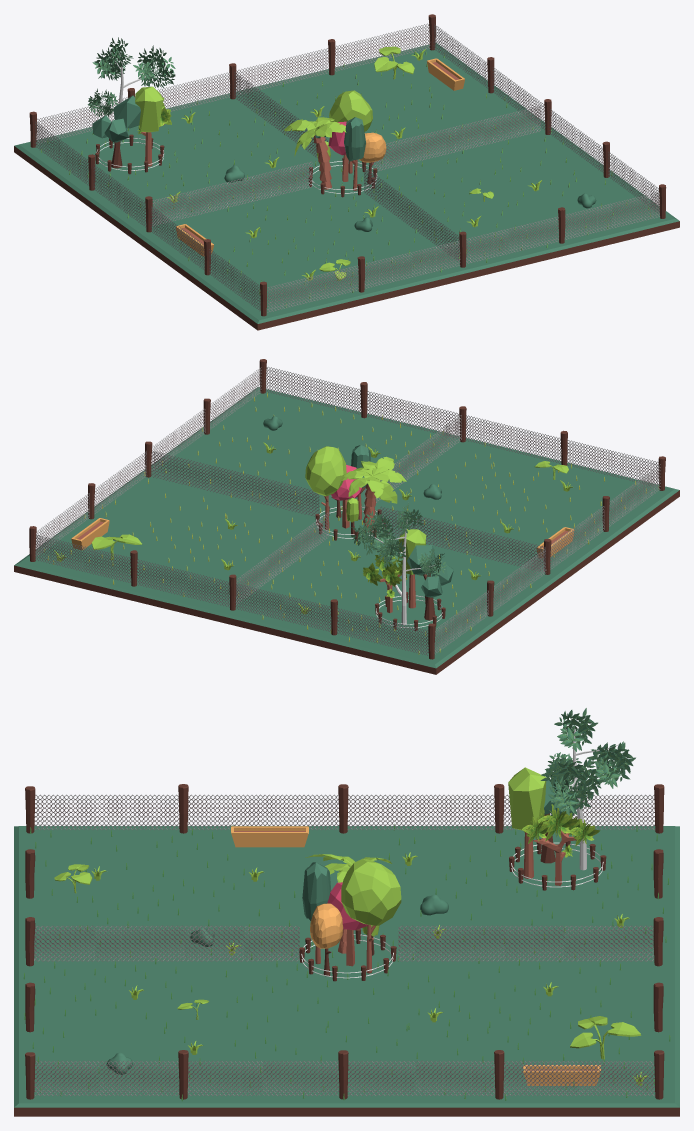
Rendered from cow_plot_collection.fbx.
3 renders of one model, top to bottom at view 1: azimuth 30°, elevation 25°; view 2: azimuth 150°, elevation 25°; view 3: azimuth 270°, elevation 25°, orthographic. The views are drawn at different scales.
Parts seen in each view (by area): view 1: Ground.001, Rotating_Fences.001, Fence, Cylinder.022, Cylinder.015, Cylinder.027, Eucalyptus_Trunk.001, Grass.001, Coconut_tree.001, Plane, Cube, Sphere.018 (+5 smaller); view 2: Ground.001, Rotating_Fences.001, Cylinder.022, Fence, Cylinder.015, Cylinder.027, Eucalyptus_Trunk.001, Grass.001, Coconut_tree.001, Cube, Plane, Tree 1.002 (+5 smaller); view 3: Ground.001, Cylinder.027, Cylinder.015, Rotating_Fences.001, Eucalyptus_Trunk.001, Cube, Grass.001, Tree 1.002, Sphere.018, food_container, Cylinder.022, Fence (+8 smaller).
Boxes of the visible parts, box(x1,y1,x2,y2) form: Ground.001: box(14, 43, 679, 330); Rotating_Fences.001: box(152, 72, 540, 262); Fence: box(267, 192, 659, 312); Cylinder.022: box(37, 23, 430, 143); Cylinder.015: box(29, 111, 266, 316); Cylinder.027: box(428, 14, 666, 218); Eucalyptus_Trunk.001: box(87, 37, 175, 147); Grass.001: box(41, 50, 650, 307); Coconut_tree.001: box(284, 117, 346, 189); Plane: box(92, 95, 140, 168); Cube: box(329, 90, 372, 173); Sphere.018: box(135, 86, 163, 132); Ground.001: box(14, 387, 679, 674); Rotating_Fences.001: box(151, 415, 545, 604); Cylinder.022: box(35, 535, 428, 655); Fence: box(265, 367, 658, 487); Cylinder.015: box(428, 456, 665, 659); Cylinder.027: box(29, 359, 266, 561); Eucalyptus_Trunk.001: box(350, 503, 446, 625); Grass.001: box(44, 392, 658, 654); Coconut_tree.001: box(339, 456, 406, 532); Cube: box(305, 446, 346, 529); Plane: box(407, 545, 453, 620); Tree 1.002: box(363, 553, 408, 612); Ground.001: box(14, 826, 679, 1116); Cylinder.027: box(25, 1050, 664, 1099); Cylinder.015: box(25, 784, 664, 833); Rotating_Fences.001: box(34, 925, 653, 961); Eucalyptus_Trunk.001: box(540, 708, 635, 870); Cube: box(341, 858, 401, 973); Grass.001: box(23, 824, 670, 1101); Tree 1.002: box(522, 804, 600, 885); Sphere.018: box(508, 767, 546, 830); food_container: box(231, 826, 308, 847); Cylinder.022: box(653, 849, 663, 1032); Fence: box(25, 849, 35, 1032).
Size of the model in its own units: 2800 by 799 by 2800.
